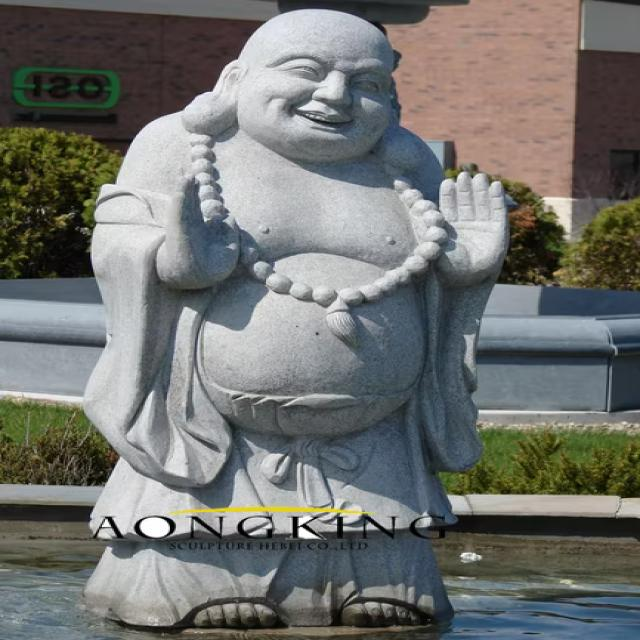Smiling Buddha: (99, 9, 503, 529)
